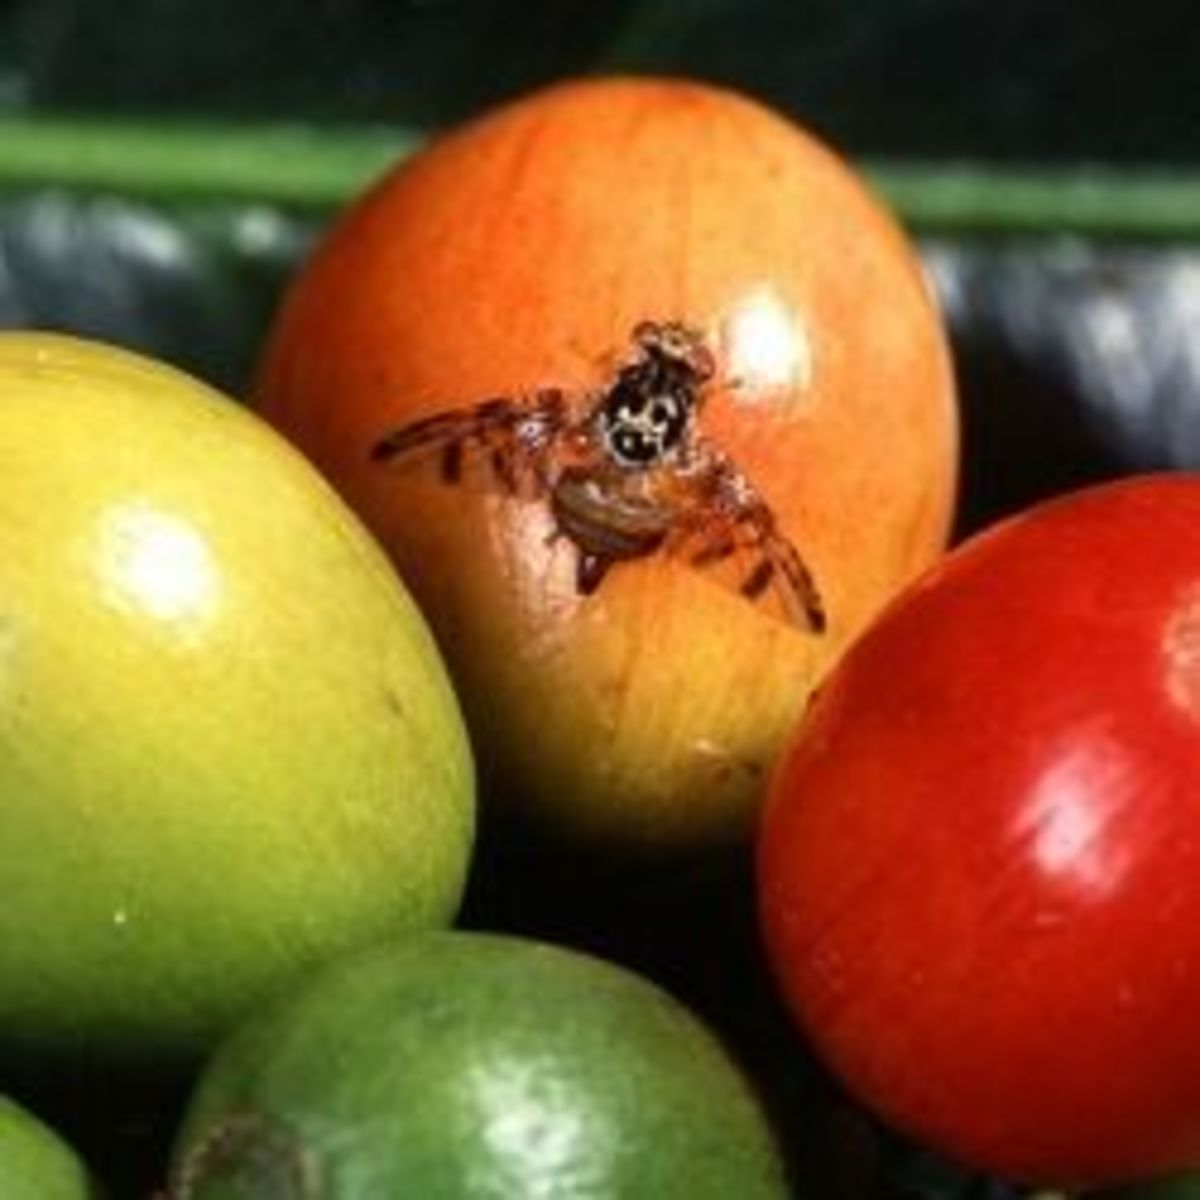Fruit fly: (392, 271, 823, 643)
